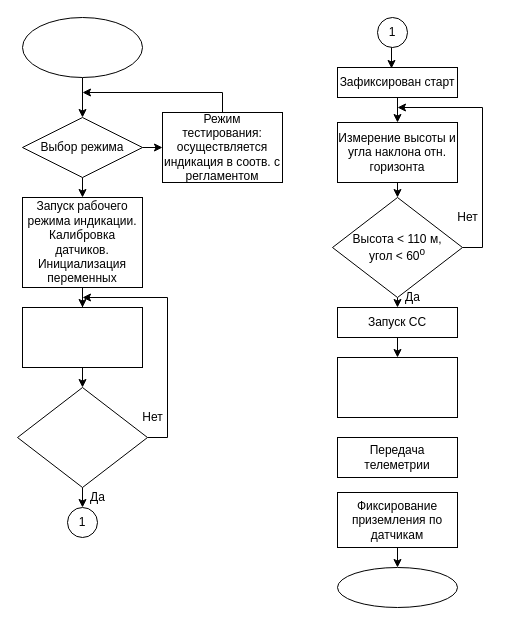
Some shapes in this 508 by 625 pixel diagram are drawn without their labels. The shapes that lost their labels are listed below. From the top down, each one's centre as x and y in pixels, then its label:
At pixel 82 47: "Включение питания".
At pixel 82 337: "Измерение высоты и ускорения".
At pixel 397 387: "Анализ отделения ОПН с помощью фоторезистора".
At pixel 82 437: "Высота и ускорение увеличились?".
At pixel 397 587: "Завершение передачи".
